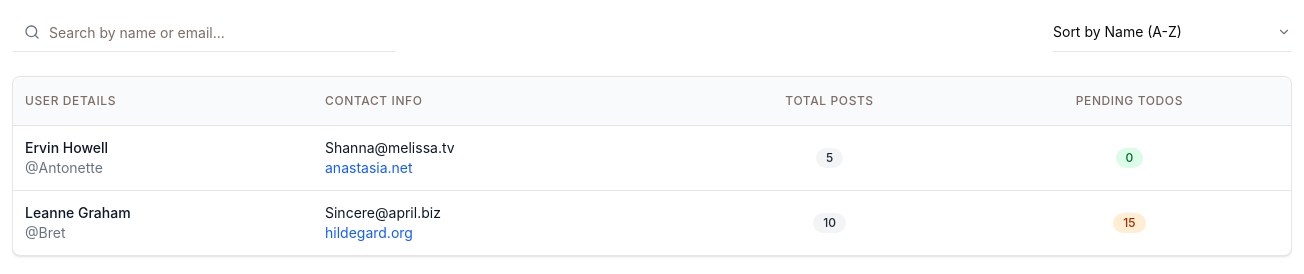
Scenario: UsersTable Component › filters users by search input
Type "Ervin" into the field with placeholder "Search by name or email...". click: [204, 32]
box: [12, 12, 396, 52]
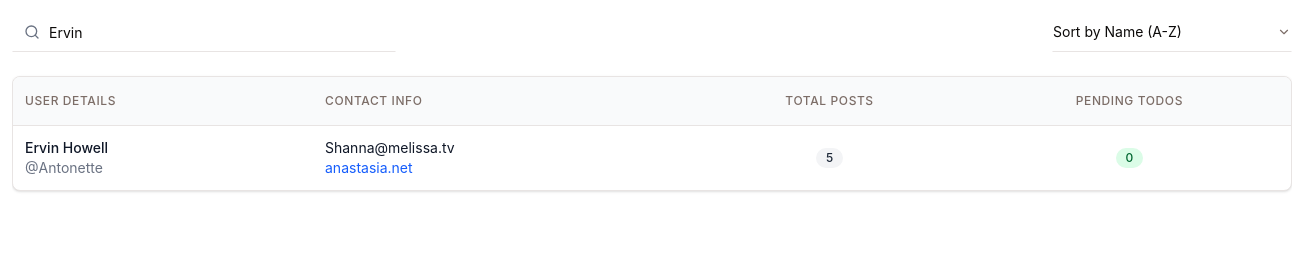
Expected: the text "Ervin Howell" is shown, [25, 138, 108, 156]
Expected: the text "Leanne Graham" is gone
